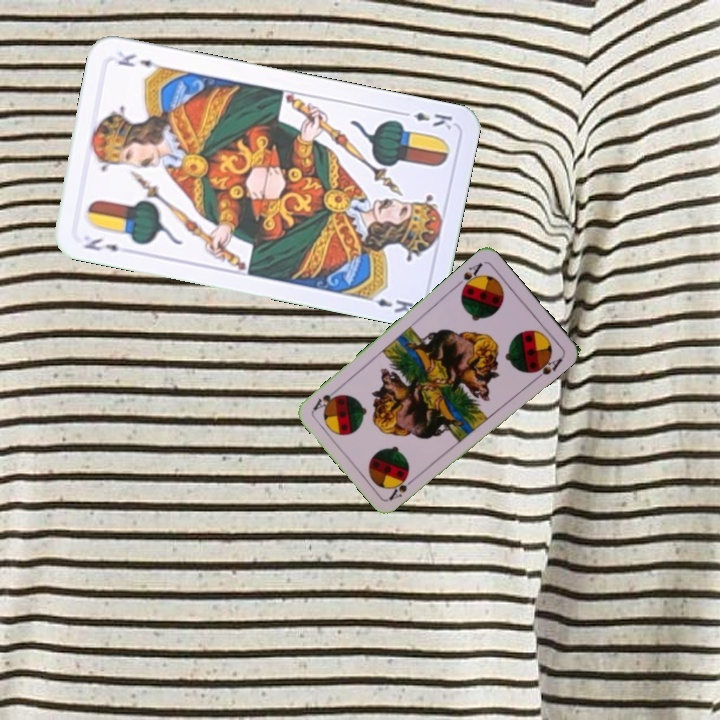EK: (396, 107, 455, 132), (80, 233, 121, 254)
SA: (452, 258, 485, 294), (385, 472, 420, 503)
